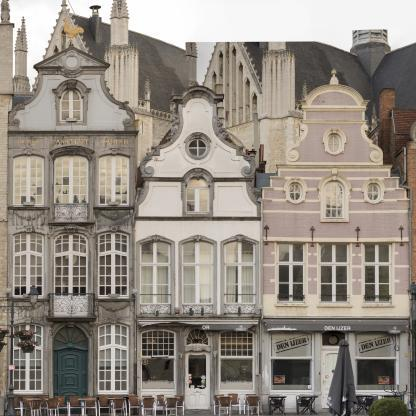Balcony: (48, 293, 96, 317)
Building Outline: (6, 17, 410, 416)
Cornice: (33, 45, 111, 75), (316, 168, 353, 191), (47, 225, 95, 238), (52, 79, 92, 94), (49, 145, 95, 155), (263, 240, 409, 243), (323, 127, 347, 143), (362, 177, 386, 193), (283, 177, 308, 192)
Deco: (60, 17, 84, 46), (101, 140, 128, 145), (57, 140, 88, 144), (22, 316, 34, 325), (108, 316, 119, 325), (23, 225, 34, 233), (18, 140, 40, 144), (109, 147, 119, 155), (24, 148, 34, 156), (151, 234, 161, 242), (193, 234, 203, 242), (109, 225, 120, 232), (235, 234, 245, 241)
Door: (53, 348, 88, 414), (54, 253, 88, 317), (185, 350, 210, 410), (322, 350, 345, 409)
Facade: (8, 217, 410, 415)
Floor: (136, 230, 410, 320), (8, 227, 135, 322), (8, 136, 135, 227)
Floor Slab: (136, 315, 410, 320), (136, 225, 410, 230), (8, 131, 135, 136), (8, 317, 135, 322), (8, 222, 135, 227)
Ground Floor: (136, 321, 410, 414), (8, 322, 135, 416)
Shop: (271, 360, 312, 390), (355, 360, 396, 390), (218, 328, 255, 358), (141, 328, 177, 358), (271, 331, 312, 356), (356, 331, 396, 356), (142, 359, 174, 389), (221, 360, 253, 390), (186, 327, 210, 347), (322, 331, 345, 346), (324, 326, 351, 330)
Sill: (8, 130, 139, 136), (47, 221, 96, 226), (7, 206, 50, 210), (6, 393, 49, 397), (93, 206, 135, 210), (94, 298, 136, 302), (7, 298, 50, 301), (93, 394, 136, 397), (320, 219, 349, 223), (317, 304, 353, 307), (275, 304, 309, 307), (362, 304, 395, 307)
Top Floor: (146, 158, 250, 230), (303, 121, 365, 230), (39, 66, 104, 136)
Window: (53, 155, 89, 222), (224, 241, 255, 316), (182, 241, 213, 315), (98, 322, 129, 394), (140, 241, 170, 315), (12, 323, 43, 394), (98, 231, 129, 298), (13, 232, 44, 298), (319, 244, 349, 304), (277, 243, 305, 304), (13, 154, 45, 207), (364, 245, 392, 305), (98, 154, 130, 206), (186, 176, 210, 214), (53, 325, 88, 350), (324, 180, 345, 219), (54, 232, 89, 255), (60, 89, 83, 123)
dont: (0, 285, 42, 416), (6, 395, 185, 416), (326, 339, 357, 416), (352, 393, 405, 416), (213, 393, 260, 416), (383, 384, 413, 403), (296, 394, 319, 416), (268, 394, 287, 416)
